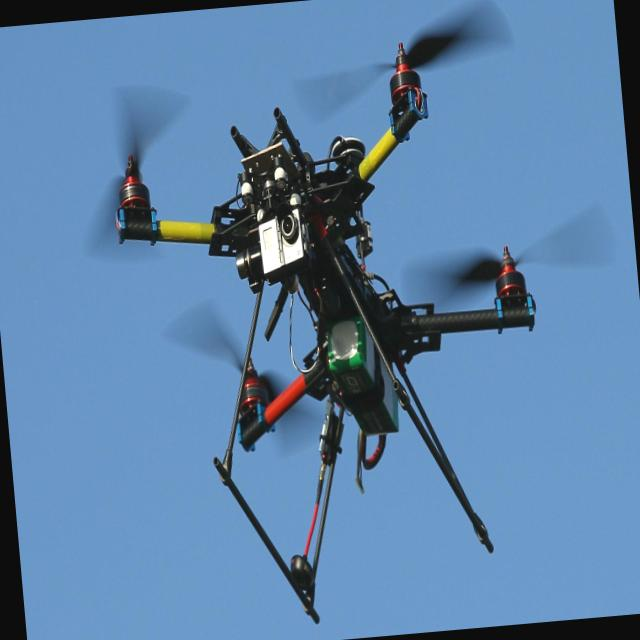drone: (97, 0, 563, 640)
